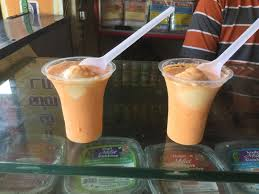jigirthanda: (161, 60, 226, 149), (44, 62, 113, 143)
